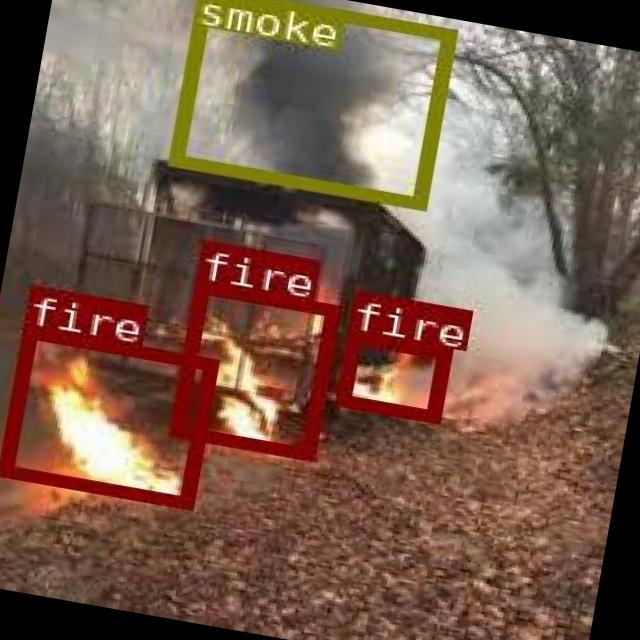fire: (0, 323, 215, 507), (165, 278, 338, 457), (333, 329, 448, 422)
smoke: (165, 0, 453, 206)
